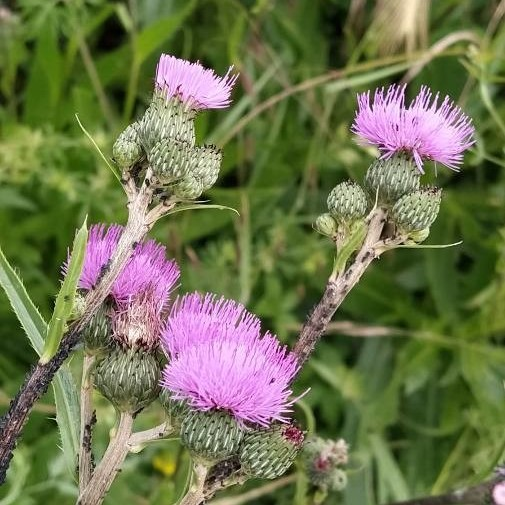obstacle: (41, 87, 450, 453)
